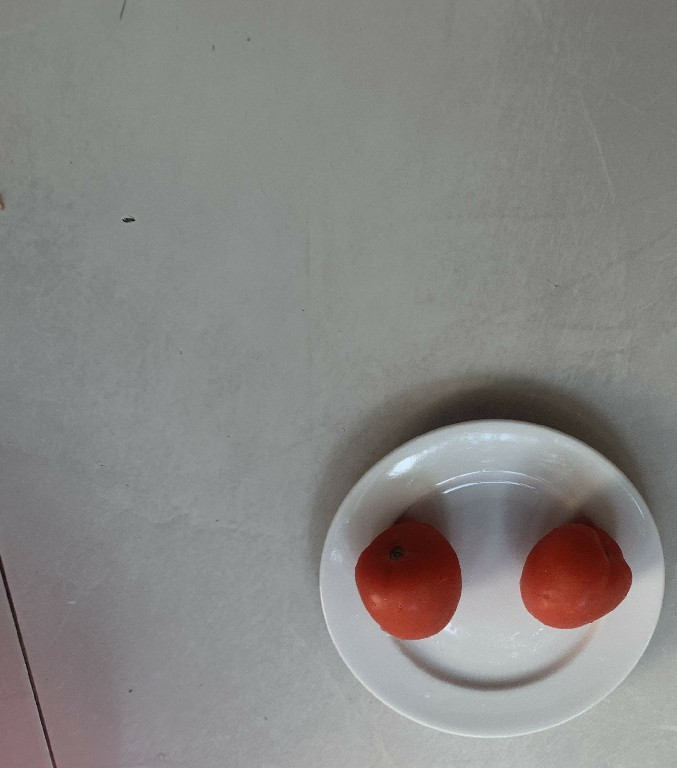OK: (355, 517, 465, 641), (517, 520, 636, 630)
